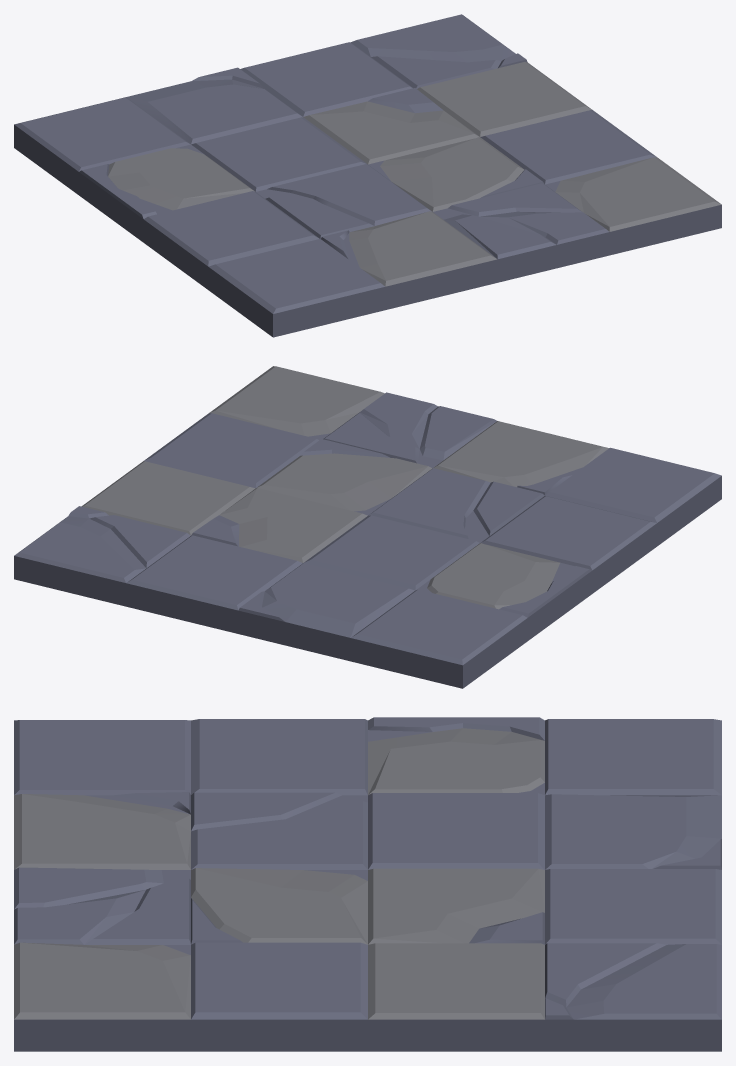
The model's file is Floor_a.fbx.
3 renders of one model, top to bottom at view 1: azimuth 30°, elevation 25°; view 2: azimuth 150°, elevation 25°; view 3: azimuth 270°, elevation 25°, orthographic. The views are drawn at different scales.
Visible parts, largest first — view 1: 1-Floor_a; view 2: 1-Floor_a; view 3: 1-Floor_a.
Boxes of the visible parts, x1,y1,x2,y2 form: 1-Floor_a: (14,14,721,337); 1-Floor_a: (14,366,721,688); 1-Floor_a: (14,717,721,1051).
Size of the model in its own units: 4 by 4 by 0.2235.
